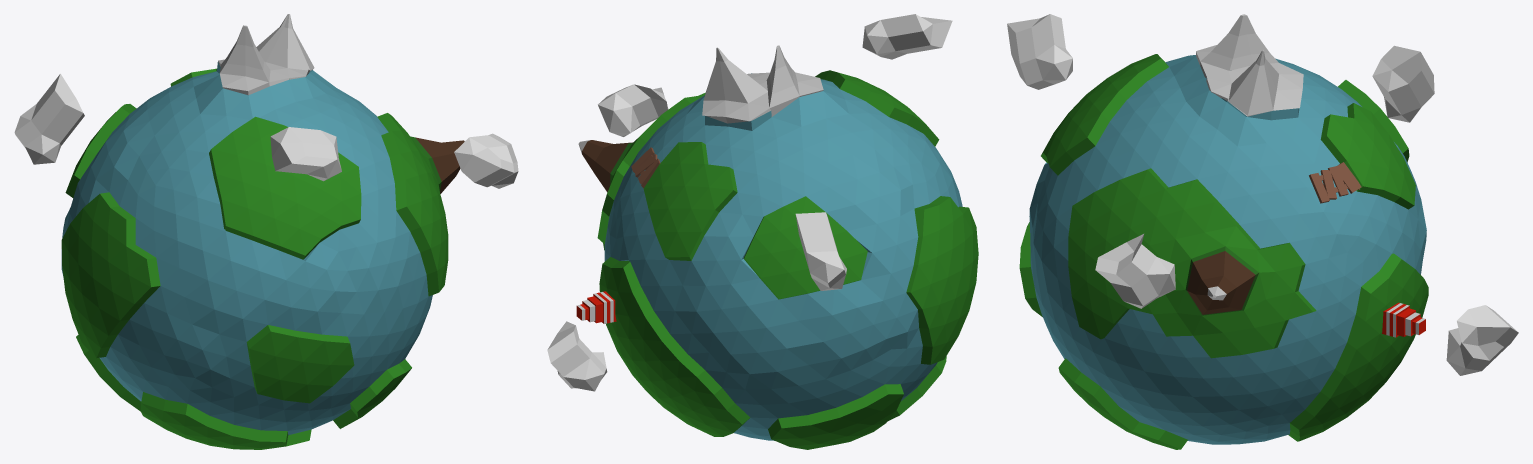
Rendered from earth.glb.
3 views of the same model, side by side, from view 1: azimuth 30°, elevation 25°; view 2: azimuth 150°, elevation 25°; view 3: azimuth 270°, elevation 25° (orthographic). The views are drawn at different scales.
Visible parts, largest first — view 1: Icosphere, Icosphere.004_Icosphere.005, Icosphere.001_Icosphere.002, Icosphere.002_Icosphere.003; view 2: Icosphere, Icosphere.001_Icosphere.002, Icosphere.004_Icosphere.005, Icosphere.003_Icosphere.004, Icosphere.002_Icosphere.003, Cube.001_Cube.004, Cube_Cube.003; view 3: Icosphere, Icosphere.001_Icosphere.002, Icosphere.002_Icosphere.003, Icosphere.004_Icosphere.005, Icosphere.003_Icosphere.004, Cube_Cube.003, Cube.001_Cube.004.
Part boxes in pixels (bbox=[...]): Icosphere: bbox=[61, 14, 464, 449]; Icosphere.004_Icosphere.005: bbox=[14, 73, 84, 164]; Icosphere.001_Icosphere.002: bbox=[270, 127, 341, 181]; Icosphere.002_Icosphere.003: bbox=[454, 133, 518, 188]; Icosphere: bbox=[578, 45, 978, 449]; Icosphere.001_Icosphere.002: bbox=[862, 14, 952, 59]; Icosphere.004_Icosphere.005: bbox=[795, 212, 846, 290]; Icosphere.003_Icosphere.004: bbox=[547, 321, 607, 391]; Icosphere.002_Icosphere.003: bbox=[598, 84, 668, 136]; Cube.001_Cube.004: bbox=[576, 291, 616, 323]; Cube_Cube.003: bbox=[631, 147, 660, 188]; Icosphere: bbox=[1019, 14, 1428, 449]; Icosphere.001_Icosphere.002: bbox=[1007, 14, 1072, 89]; Icosphere.002_Icosphere.003: bbox=[1095, 234, 1175, 308]; Icosphere.004_Icosphere.005: bbox=[1372, 45, 1434, 122]; Icosphere.003_Icosphere.004: bbox=[1446, 305, 1518, 375]; Cube_Cube.003: bbox=[1309, 162, 1361, 203]; Cube.001_Cube.004: bbox=[1382, 302, 1425, 337].
Size of the model in its own units: 2.44 by 2.36 by 2.6.
